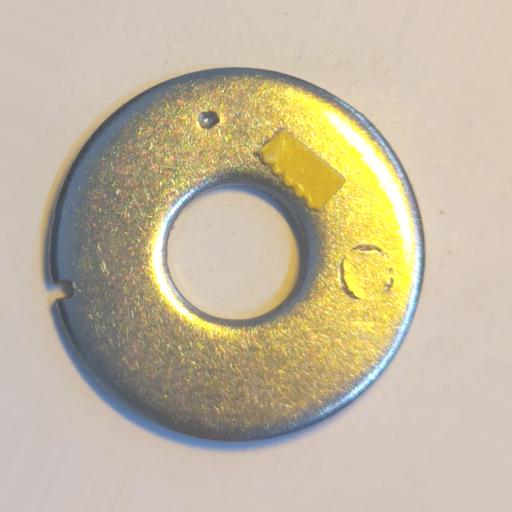burr: (49, 277, 76, 302)
circular_cavity: (199, 111, 219, 131)
